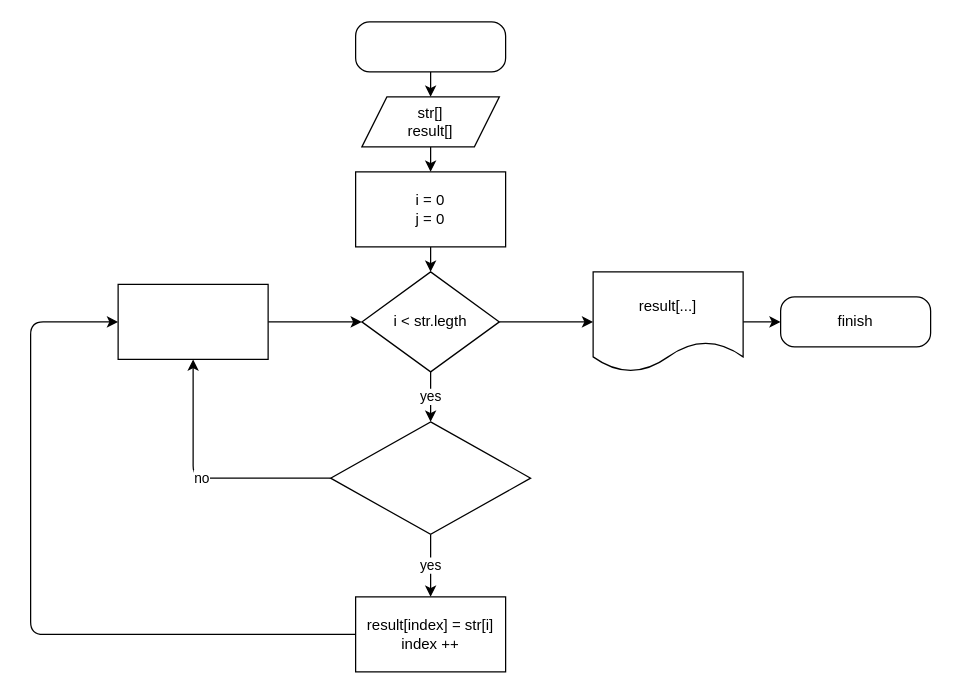
Image size: 953x694. Some labels were removed from this diagram. The shapes that lost their labels are listed below. From the top down, each one's box as (x1, y1, x2, y2) in pixels, then its label:
(354, 21, 506, 72): start
(117, 283, 268, 359): i++
(329, 421, 531, 534): str[i] <= 3
